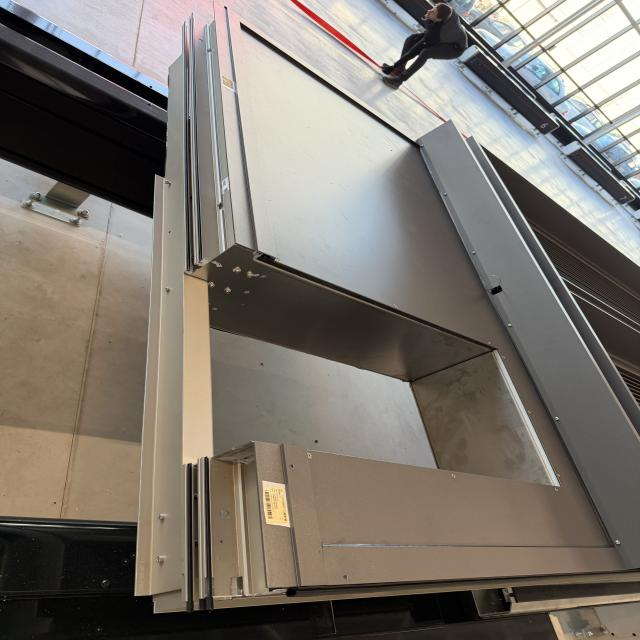vijak_na_pola_pritegnut: (157, 174, 180, 190)
vijak_nedostaje: (159, 226, 175, 237)
